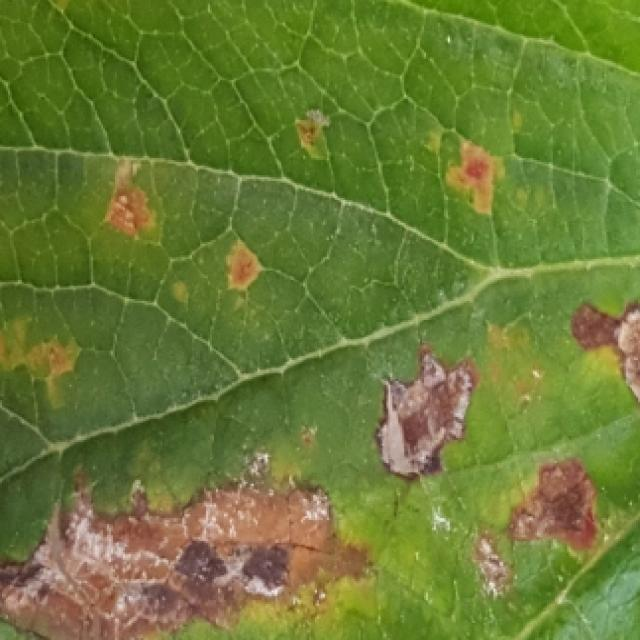Angular Leafspot: (0, 0, 640, 640)
